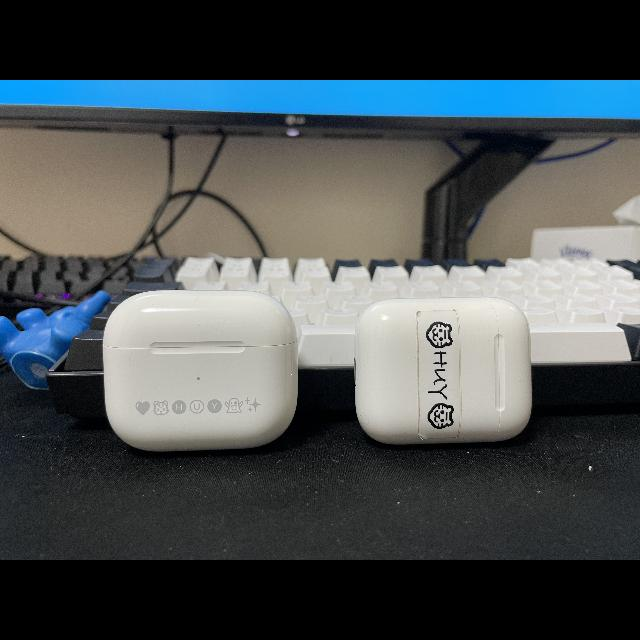airpod2: (353, 290, 542, 444)
airpod3: (96, 282, 306, 454)
